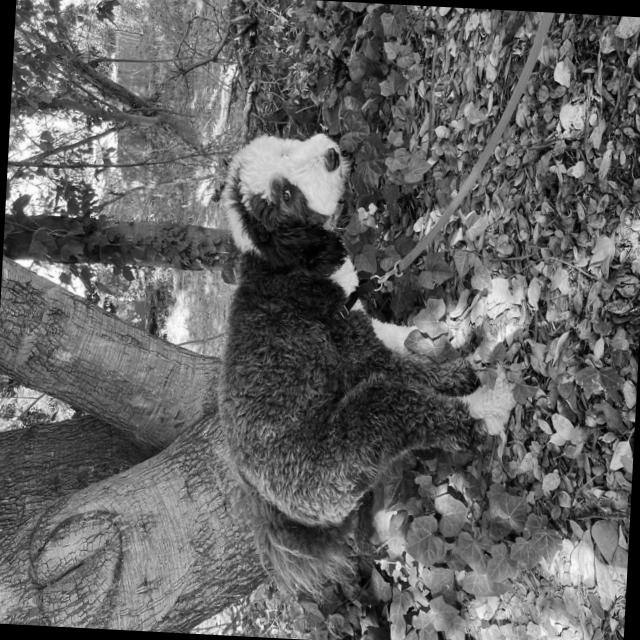squatting: (194, 122, 530, 612)
